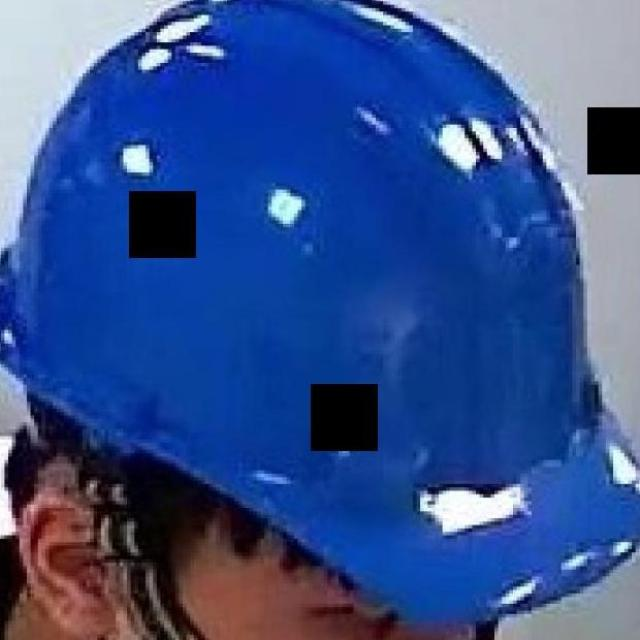blue helmet: (11, 27, 604, 560)
